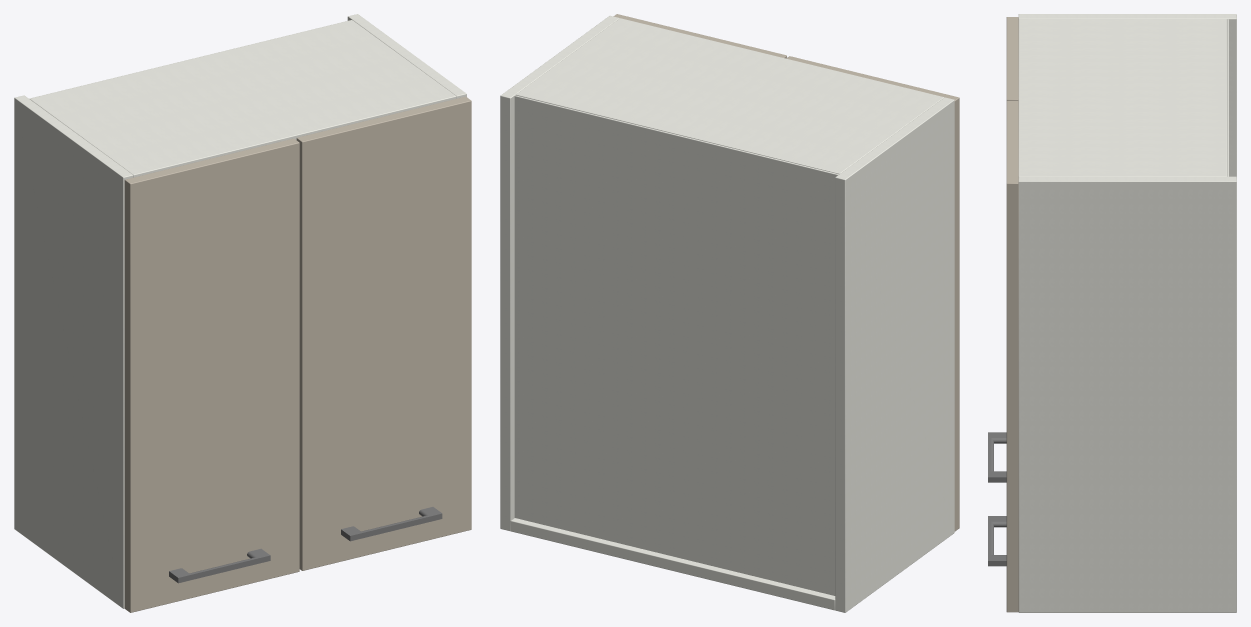
3 renders of one model, left to right at view 1: azimuth 30°, elevation 25°; view 2: azimuth 150°, elevation 25°; view 3: azimuth 270°, elevation 25°, orthographic.
Parts seen in each view (by area): view 1: v6, STRANICA LEVA, VEZNA PREDNJA, Union (×2), STRANICA DESNA; view 2: LEĐA, STRANICA LEVA, VEZNA PREDNJA, STRANICA DESNA, POD, v6; view 3: STRANICA DESNA, VEZNA PREDNJA, v6, STRANICA LEVA, Union (×2).
Part boxes in pixels (x1,y1,x2,y2): v6: [124, 96, 471, 612]; STRANICA LEVA: [14, 95, 133, 608]; VEZNA PREDNJA: [30, 20, 456, 177]; Union (×2): [169, 507, 442, 583]; STRANICA DESNA: [347, 14, 466, 98]; LEĐA: [514, 95, 838, 595]; STRANICA LEVA: [835, 97, 954, 612]; VEZNA PREDNJA: [516, 18, 943, 174]; STRANICA DESNA: [500, 15, 619, 531]; POD: [510, 518, 835, 610]; v6: [613, 14, 959, 531]; STRANICA DESNA: [1018, 176, 1236, 612]; VEZNA PREDNJA: [1018, 19, 1226, 176]; v6: [1006, 17, 1018, 612]; STRANICA LEVA: [1018, 14, 1236, 176]; Union (×2): [988, 432, 1006, 566].
Bounding box in the file's own units: 0.6 × 0.72 × 0.376.
3 materials, 2 textured.
